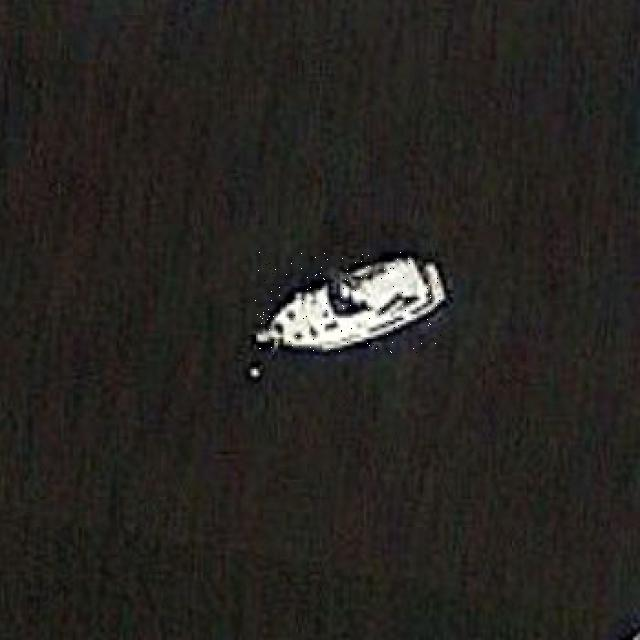boat: (253, 252, 447, 354)
